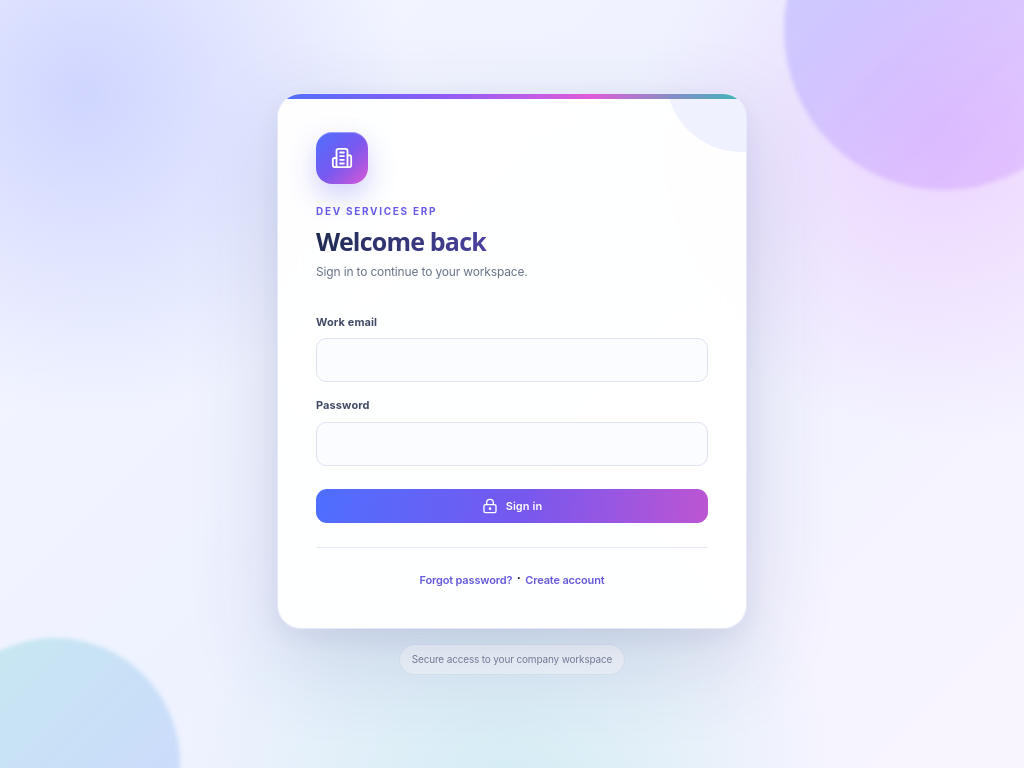
Scenario: LoginPage › validates email and password before sending
The image size is (1024, 768).
Click the button "Sign in" at (512, 506), box [316, 489, 708, 523]
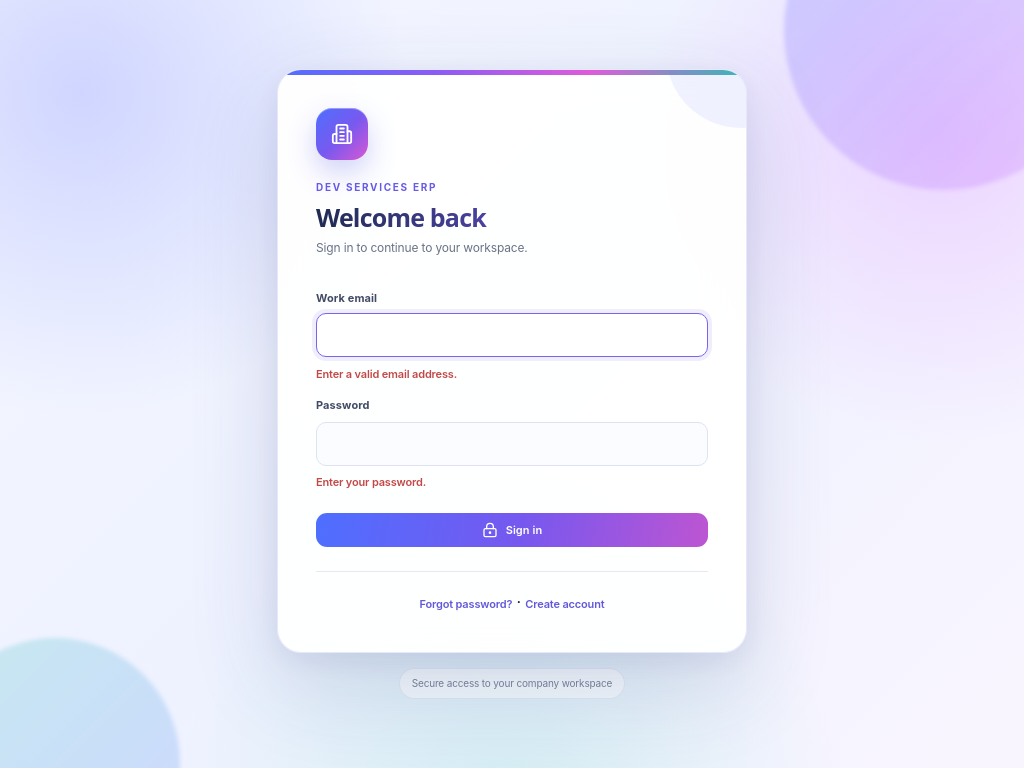
Now the text "Enter a valid email address." is shown, box [316, 367, 457, 381]
